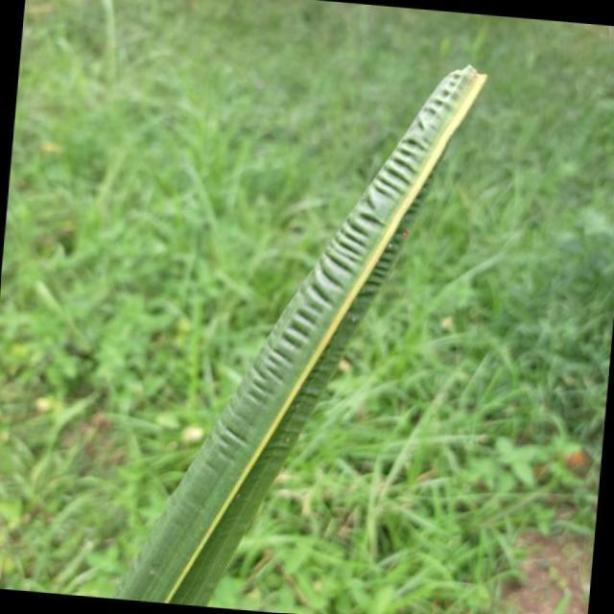Boron: (107, 59, 489, 601)
